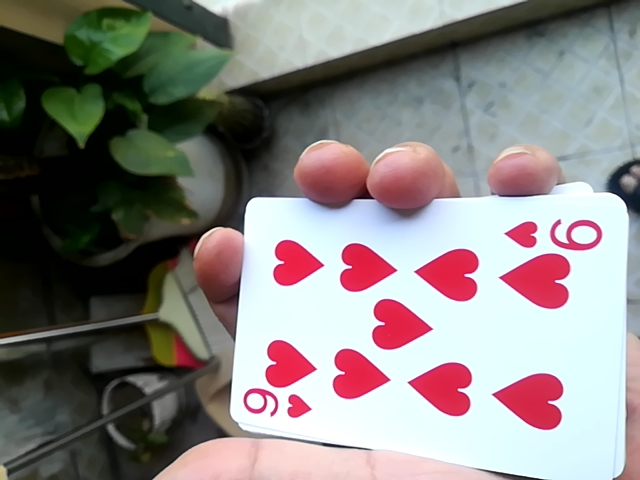hx 9: (224, 160, 640, 475)
